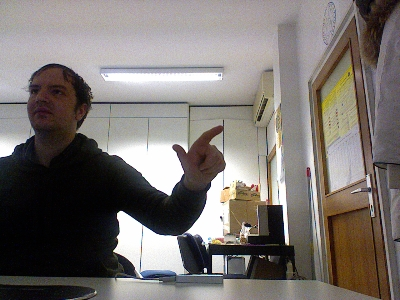枪: (171, 124, 226, 186)
